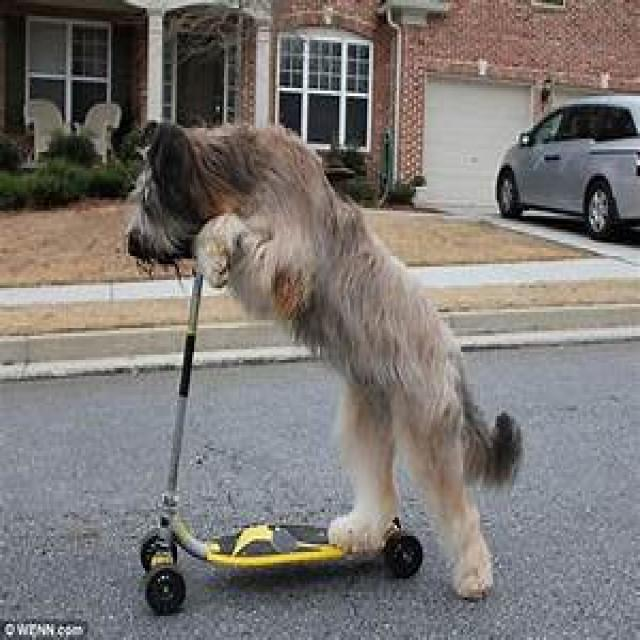dog: (126, 123, 521, 603)
